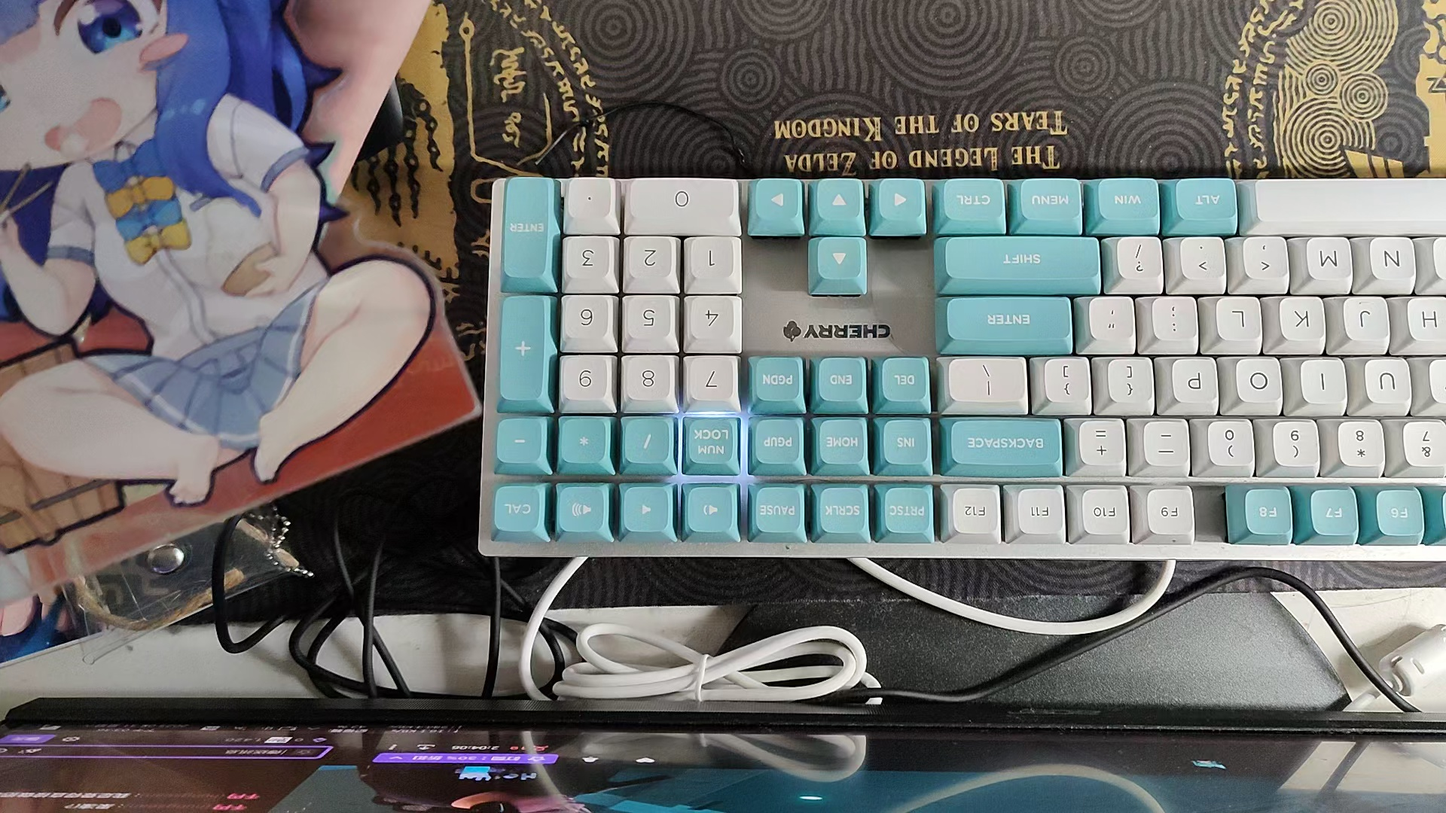Yanami-anna: (0, 1, 478, 608)
